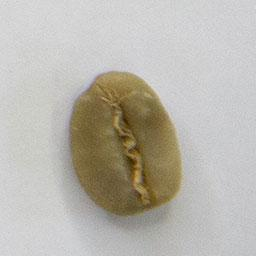longberry: (66, 65, 185, 216)
